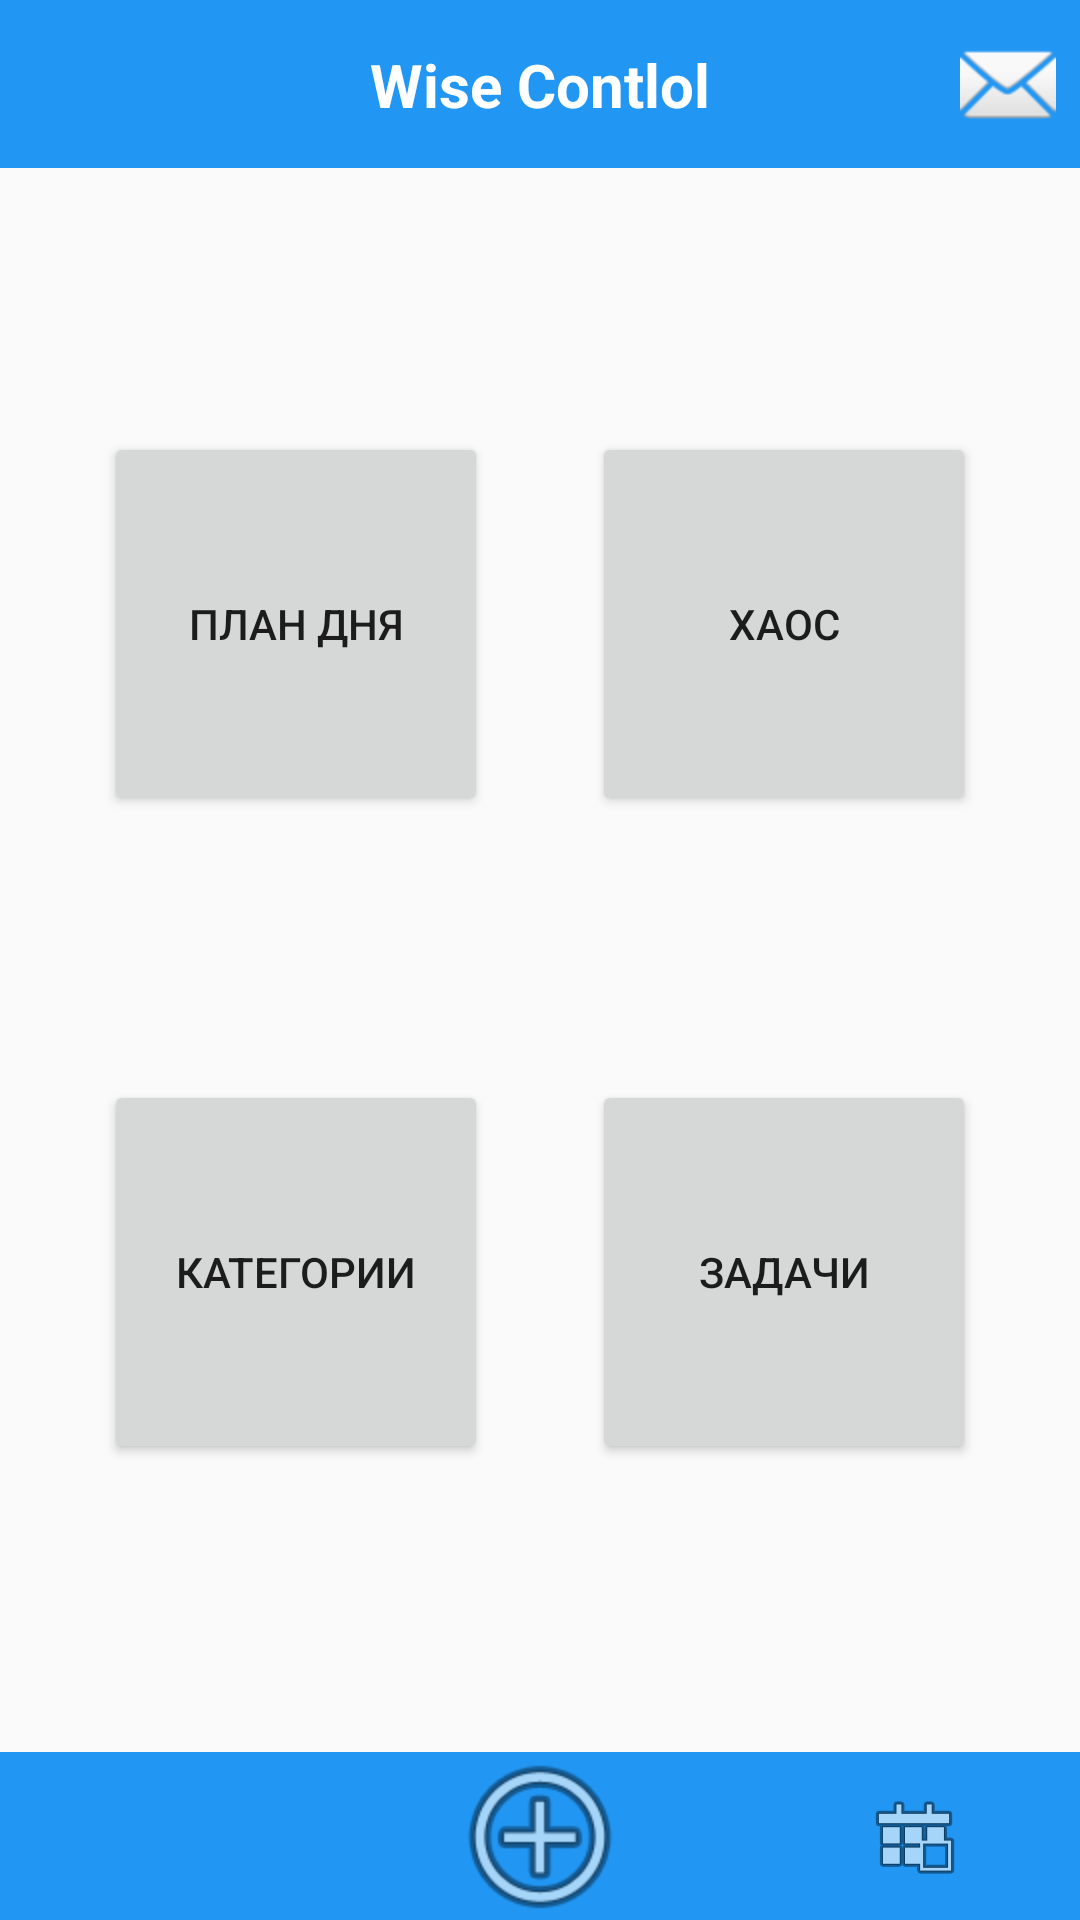

Locate icon controls on the screen. Image size 1080px×1920px, boxes as bbox=(x1, y1, x2, y2).
email: bbox=(960, 51, 1056, 119)
today: bbox=(876, 1801, 954, 1874)
